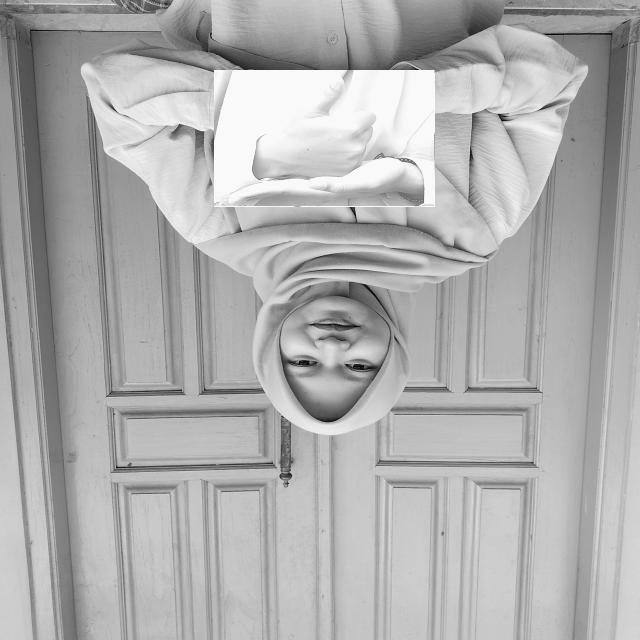cantik: (214, 70, 435, 207)
